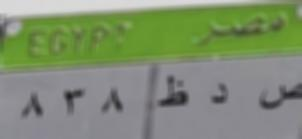3: (58, 78, 88, 119)
8: (96, 76, 131, 124), (20, 86, 48, 124)
Thaa: (156, 67, 193, 112)
daal: (200, 74, 238, 114)
saad: (257, 73, 302, 114)
